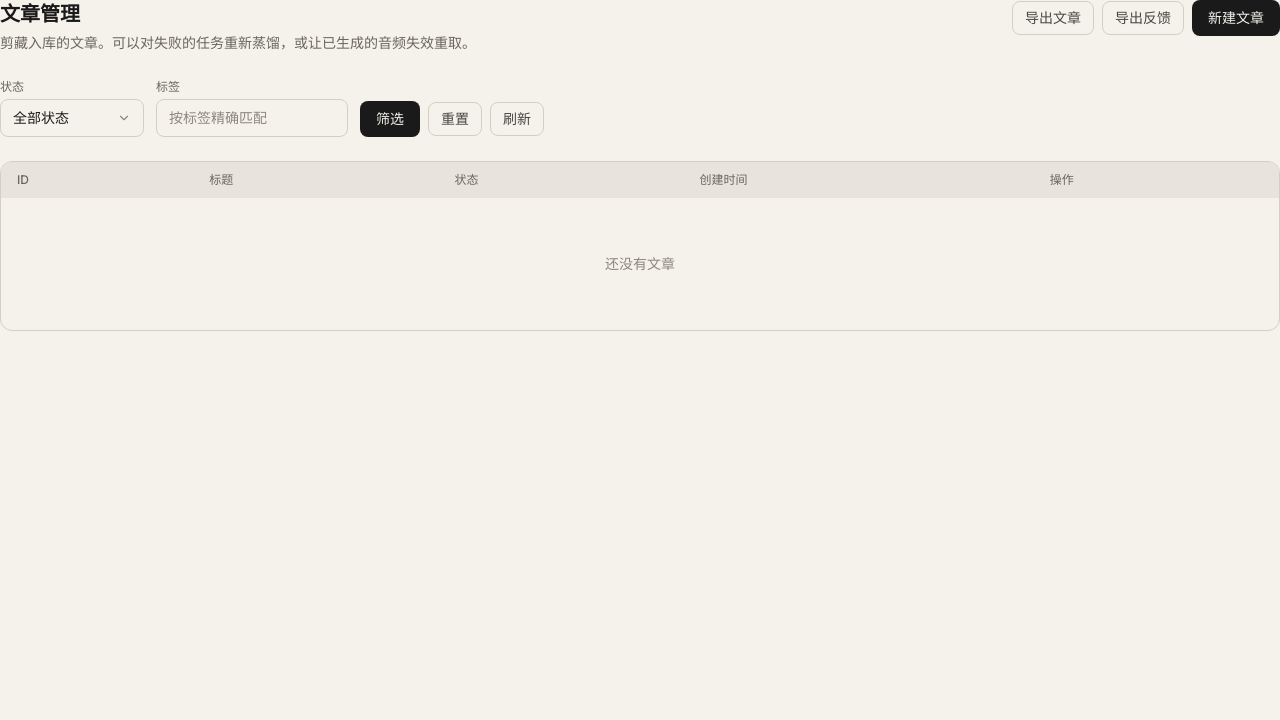
it: 新建文章抽屉 · 三种录入方式 › 切到「上传文件」模式后，报的错是「请选择一个文档文件」
Click the button "新建文章". click: (1236, 18)
box: 1192,0 -> 1279,36
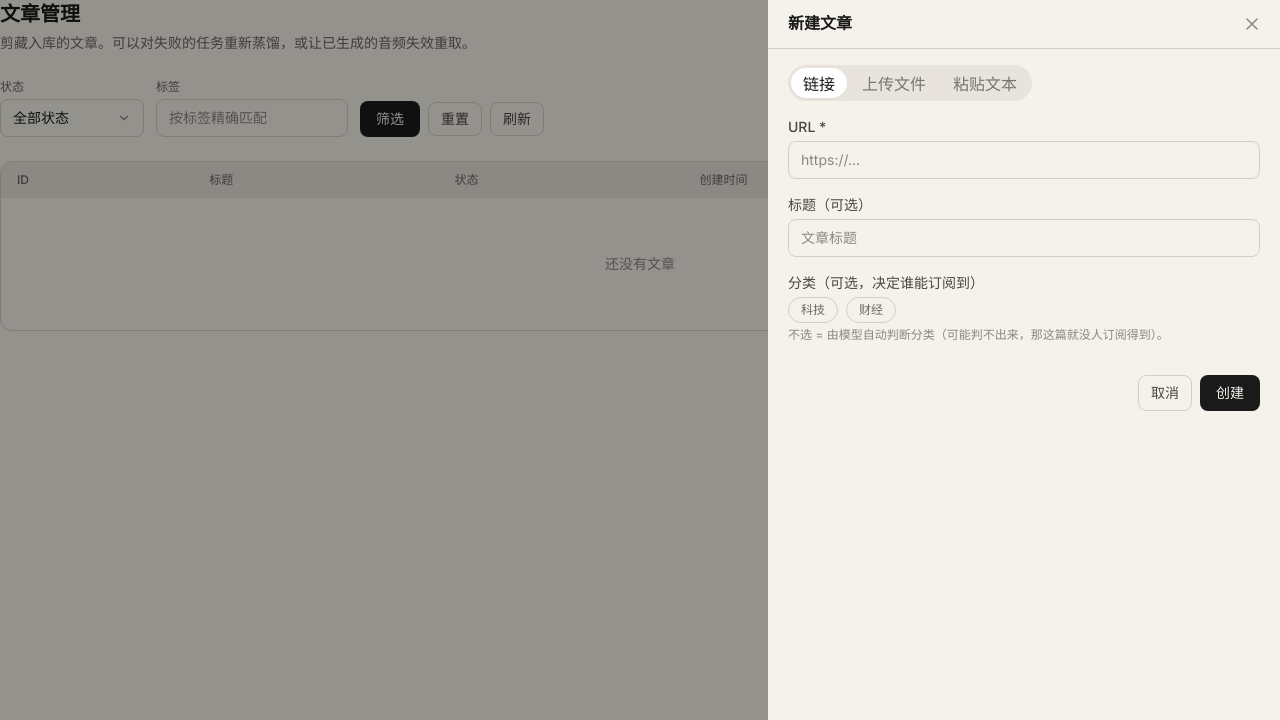
Check: the dialog is shown, box 768,0 -> 1279,719
Click the tab "上传文件". click: (894, 83)
box: 850,68 -> 938,98
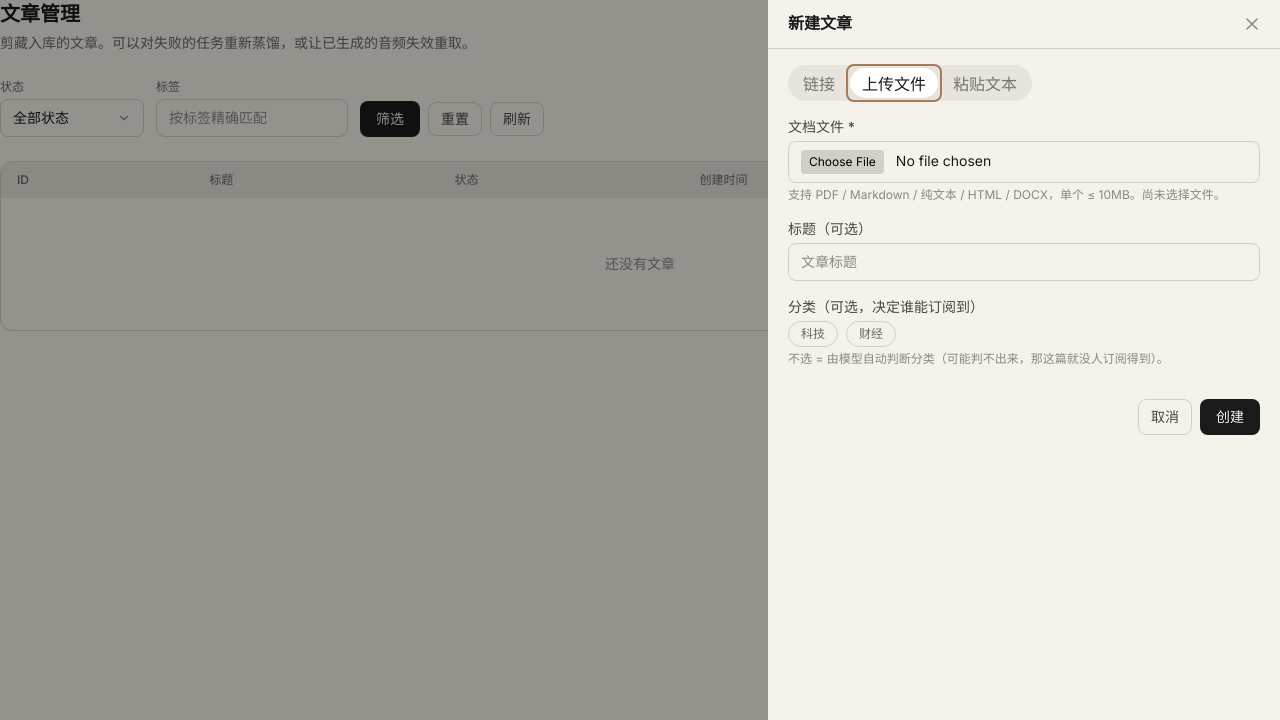
Click the button named "确认创建文章". click: (1230, 417)
box: 1200,399 -> 1260,435
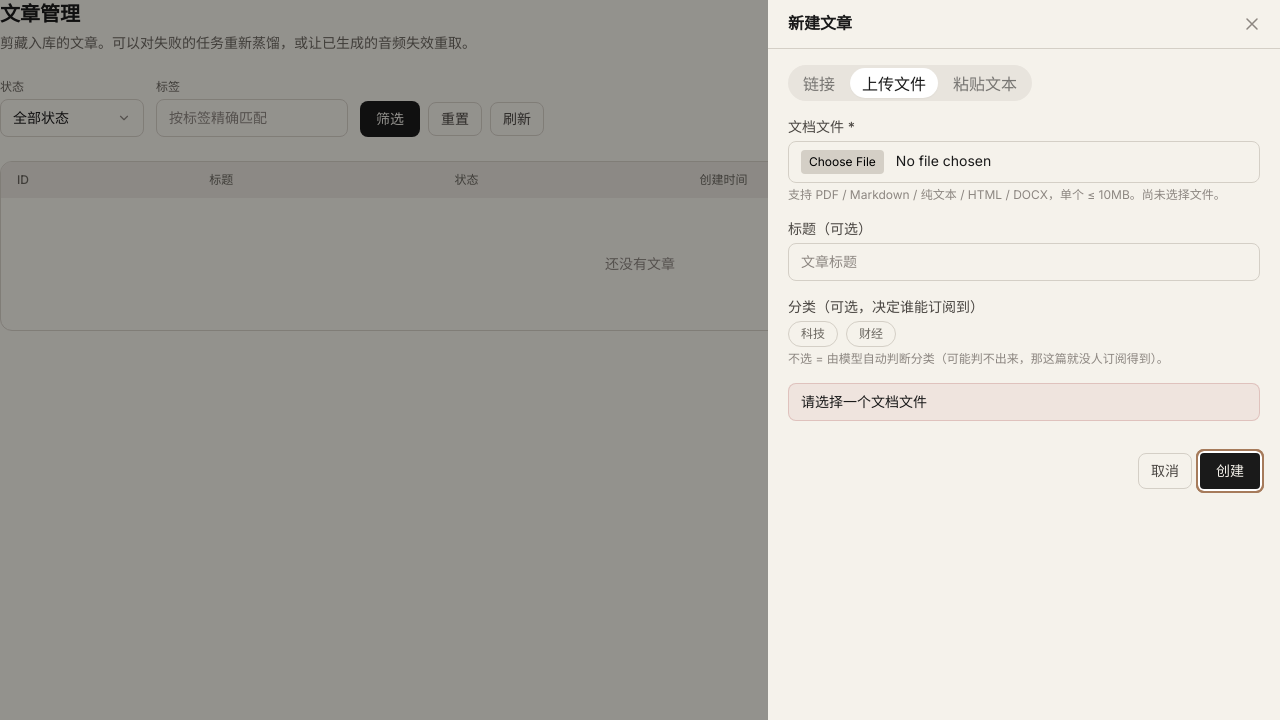
Check: the text "请选择一个文档文件" is shown, box 788,383 -> 1260,421
